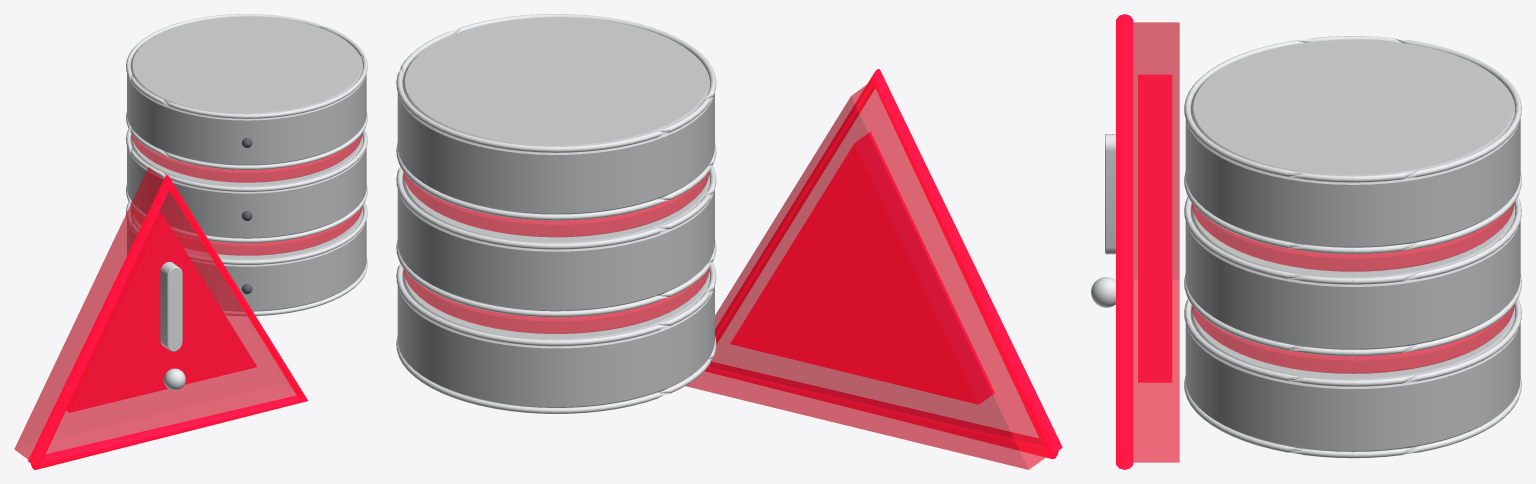
The model's file is 28-risk.glb.
3 renders of one model, left to right at view 1: azimuth 30°, elevation 25°; view 2: azimuth 150°, elevation 25°; view 3: azimuth 270°, elevation 25°, orthographic. The views are drawn at different scales.
Parts seen in each view (by area): view 1: BC satin iron, BC ruby optical glass, BC internal ruby light, BC polished iron bevel; view 2: BC satin iron, BC ruby optical glass, BC internal ruby light, BC polished iron bevel; view 3: BC satin iron, BC ruby optical glass, BC polished iron bevel, BC internal ruby light.
Boxes of the visible parts, x1,y1,x2,y2 form: BC satin iron: (127, 16, 366, 311); BC ruby optical glass: (14, 134, 362, 459); BC internal ruby light: (28, 175, 308, 469); BC polished iron bevel: (126, 14, 367, 390); BC satin iron: (397, 17, 714, 407); BC ruby optical glass: (403, 80, 1050, 469); BC internal ruby light: (705, 69, 1062, 459); BC polished iron bevel: (396, 14, 716, 413); BC satin iron: (1185, 39, 1520, 451); BC ruby optical glass: (1133, 22, 1514, 462); BC polished iron bevel: (1091, 36, 1521, 458); BC internal ruby light: (1116, 14, 1172, 469).
Size of the model in its own units: 2.14 by 1.39 by 1.42.
